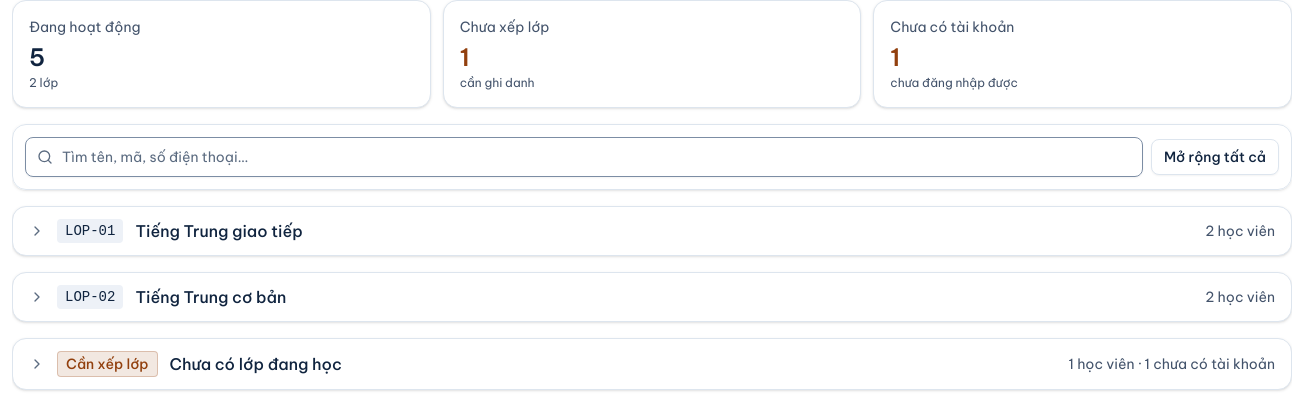
Test case: danh bạ học viên gom theo lớp › tìm không dấu ra tên có dấu và TỰ MỞ mục chứa kết quả
The image size is (1304, 408).
Type "ngoc dung" into the search field named "Tìm học viên". click: (584, 157)
box: [25, 137, 1143, 177]
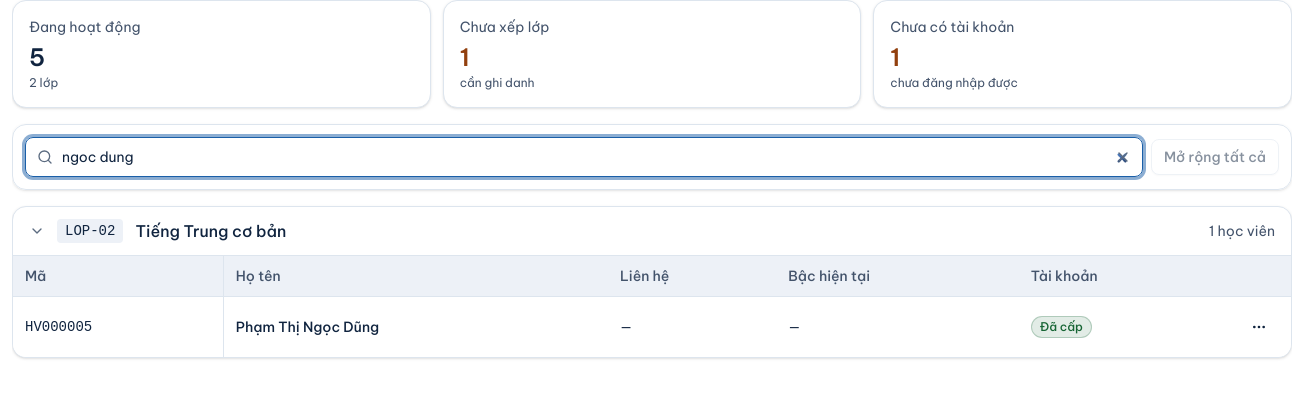
Now the button "LOP-01" is gone
